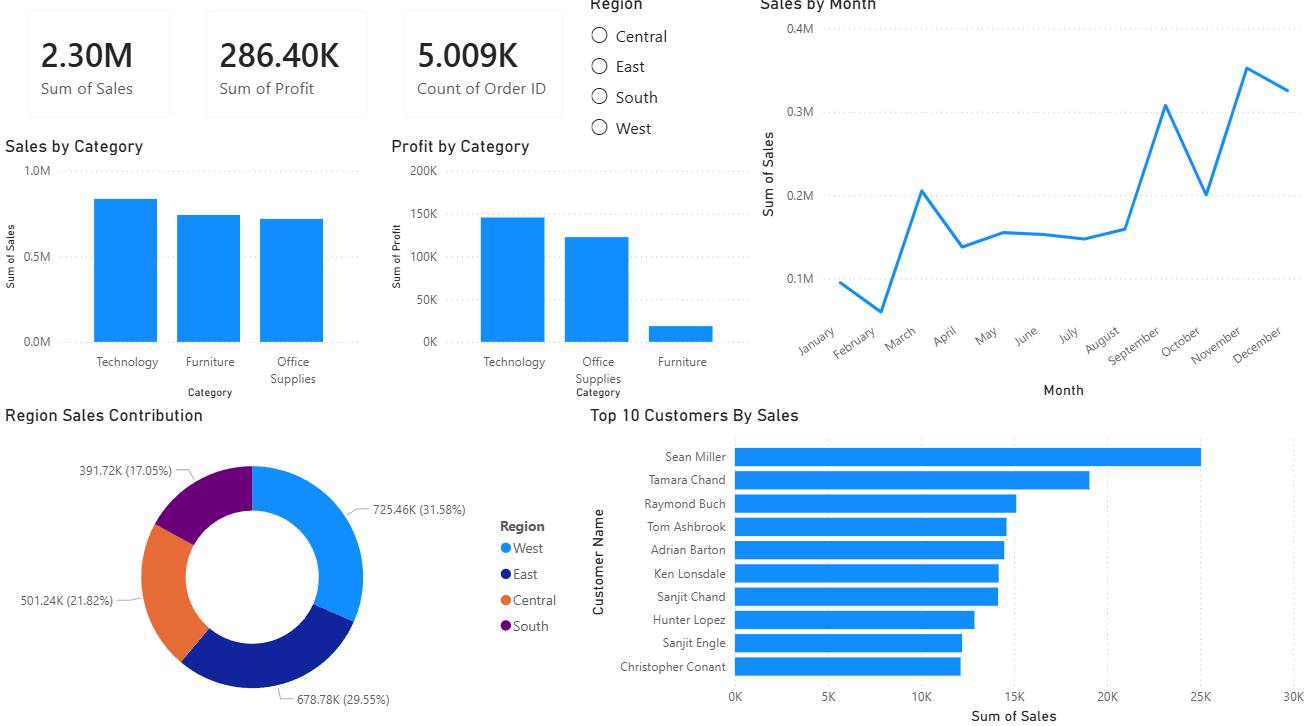

The dashboard page shown, as its layout file describes it:
{"tool":"powerbi","page":{"name":"Page 1","canvas":[1280,720],"ordinal":0},"visuals":[{"type":"cardVisual","fields":{"Data":["Sum(cleaned_superstore.Sales)"]},"box":[9.6,0,175.6,140],"z":0},{"type":"cardVisual","fields":{"Data":["Sum(cleaned_superstore.Profit)"]},"box":[185.2,0,192.1,140],"z":1000},{"type":"cardVisual","fields":{"Data":["Count(cleaned_superstore.Order ID)"]},"box":[377.4,0,190.7,140],"z":2000},{"type":"clusteredColumnChart","title":"Sales by Category","fields":{"Category":["cleaned_superstore.Category"],"Y":["Sum(cleaned_superstore.Sales)"]},"box":[0,139.4,357.1,262.9],"z":3000},{"type":"clusteredColumnChart","title":"Profit by Category","fields":{"Category":["cleaned_superstore.Category"],"Y":["Sum(cleaned_superstore.Profit)"]},"box":[377.9,139.4,360.7,262.9],"z":4000},{"type":"listSlicer","fields":{"Values":["cleaned_superstore.Region"]},"box":[572.3,0,166.3,170],"z":5000},{"type":"lineChart","title":"Sales by Month","fields":{"Y":["Sum(cleaned_superstore.Sales)"],"Category":["cleaned_superstore.Order Date.Variation.Date Hierarchy.Year","cleaned_superstore.Order Date.Variation.Date Hierarchy.Quarter","cleaned_superstore.Order Date.Variation.Date Hierarchy.Month","cleaned_superstore.Order Date.Variation.Date Hierarchy.Day"]},"box":[738.3,0,542,402.1],"z":6000},{"type":"clusteredBarChart","title":"Top 10 Customers By Sales","fields":{"Category":["cleaned_superstore.Customer Name"],"Y":["Sum(cleaned_superstore.Sales)"]},"box":[572.3,402.3,708,317.9],"z":7000},{"type":"donutChart","title":"Region Sales Contribution","fields":{"Category":["cleaned_superstore.Region"],"Y":["Sum(cleaned_superstore.Sales)"]},"box":[0,402.3,558.8,317.9],"z":7001}]}

Visuals, with their boxes in screenshot pixels (x1, y1, x2, y2), scaled from the page's 1280x720 canvas onto the 1306x726 screenshot:
cardVisual - Sum(cleaned_superstore.Sales): bbox=(10, 0, 189, 141)
cardVisual - Sum(cleaned_superstore.Profit): bbox=(189, 0, 385, 141)
cardVisual - Count(cleaned_superstore.Order ID): bbox=(385, 0, 580, 141)
"Sales by Category" clusteredColumnChart: bbox=(0, 141, 364, 406)
"Profit by Category" clusteredColumnChart: bbox=(386, 141, 754, 406)
listSlicer - cleaned_superstore.Region: bbox=(584, 0, 754, 171)
"Sales by Month" lineChart: bbox=(753, 0, 1305, 405)
"Top 10 Customers By Sales" clusteredBarChart: bbox=(584, 406, 1305, 725)
"Region Sales Contribution" donutChart: bbox=(0, 406, 570, 725)
